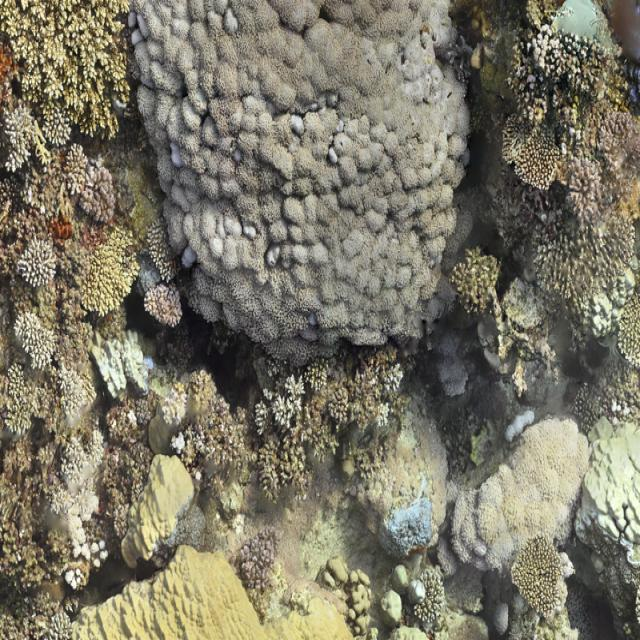Bleached Coral: (57, 442, 119, 582), (85, 316, 159, 428), (381, 490, 438, 566), (163, 426, 196, 465)
Healthy Coral: (122, 10, 476, 353), (503, 539, 577, 621)
